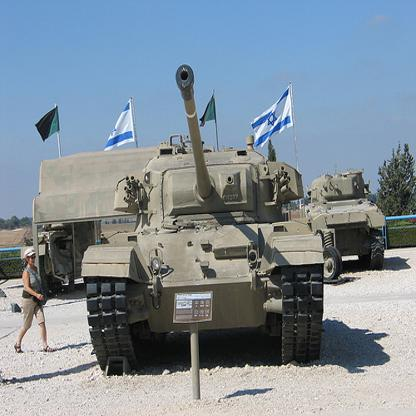Tank: (86, 65, 328, 371)
